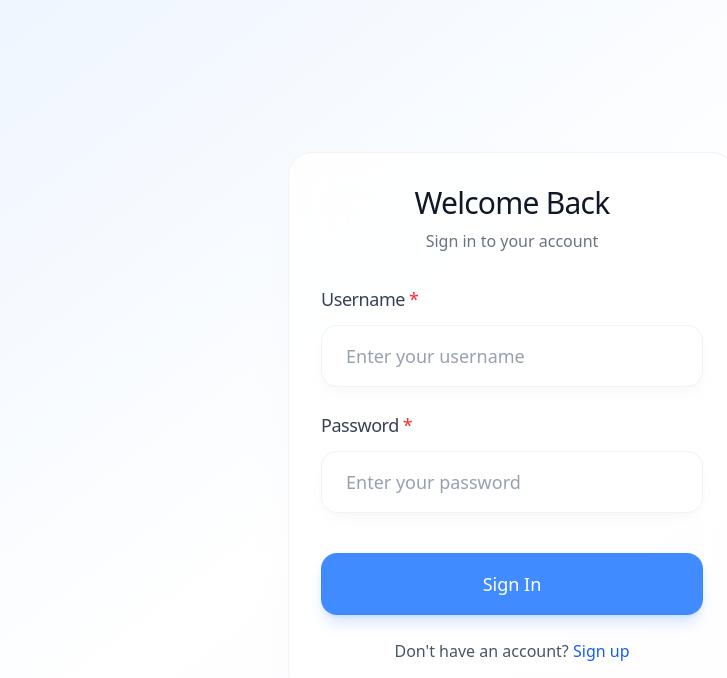
it: LoginPage › Loading State › shows loading state during login
The width and height of the screenshot is (727, 678).
Type "testuser" into the field labelled "Username*".
click(512, 356); type("testuser")  # box [321,325,703,387]
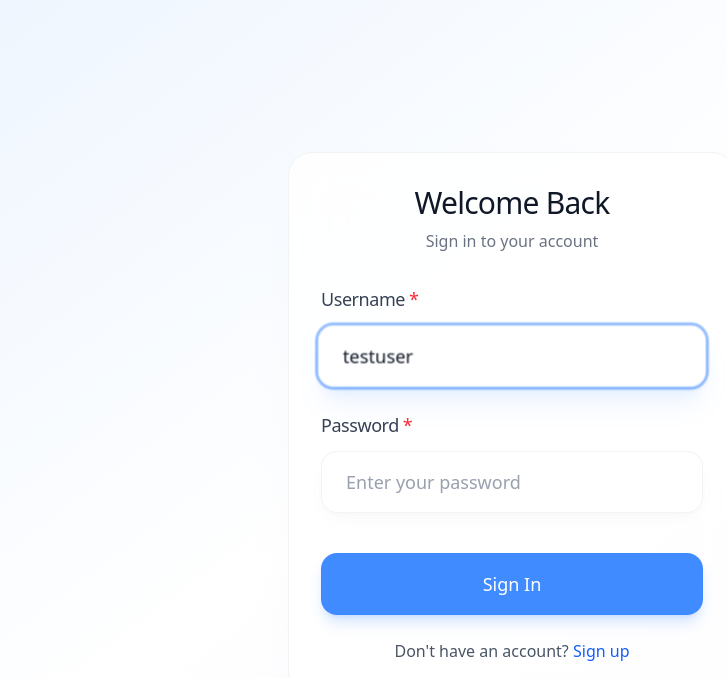
Type "password123" into the password field labelled "Password*".
click(512, 482); type("password123")  # box [321,451,703,513]
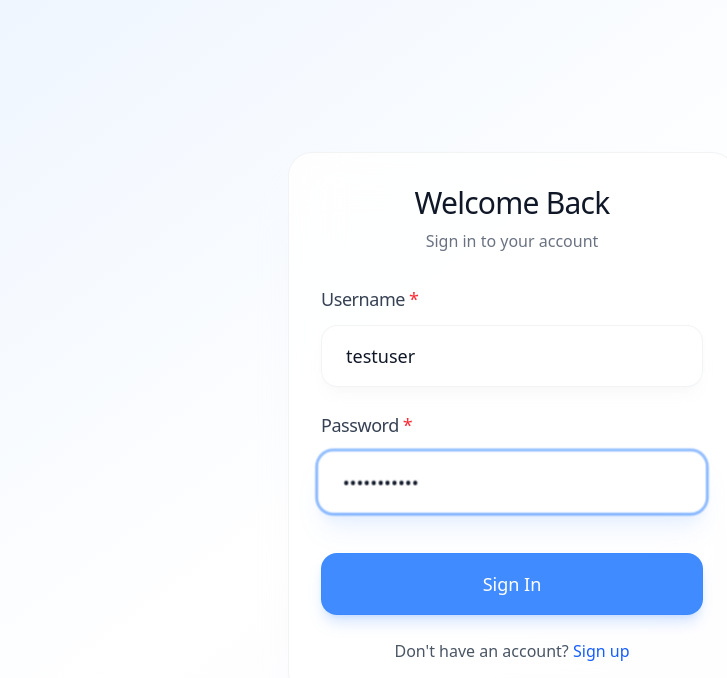
Click the button "Sign In".
click(512, 584)  # box [321,553,703,615]
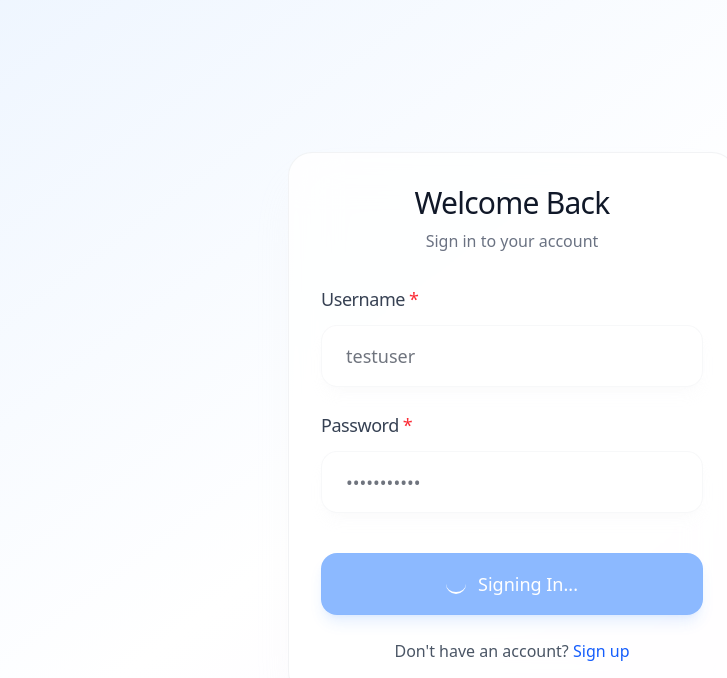
Expected: the text "Signing In..." is shown, [446,572,578,596]
Expected: the button "Signing In..." is disabled, [321,553,703,615]
